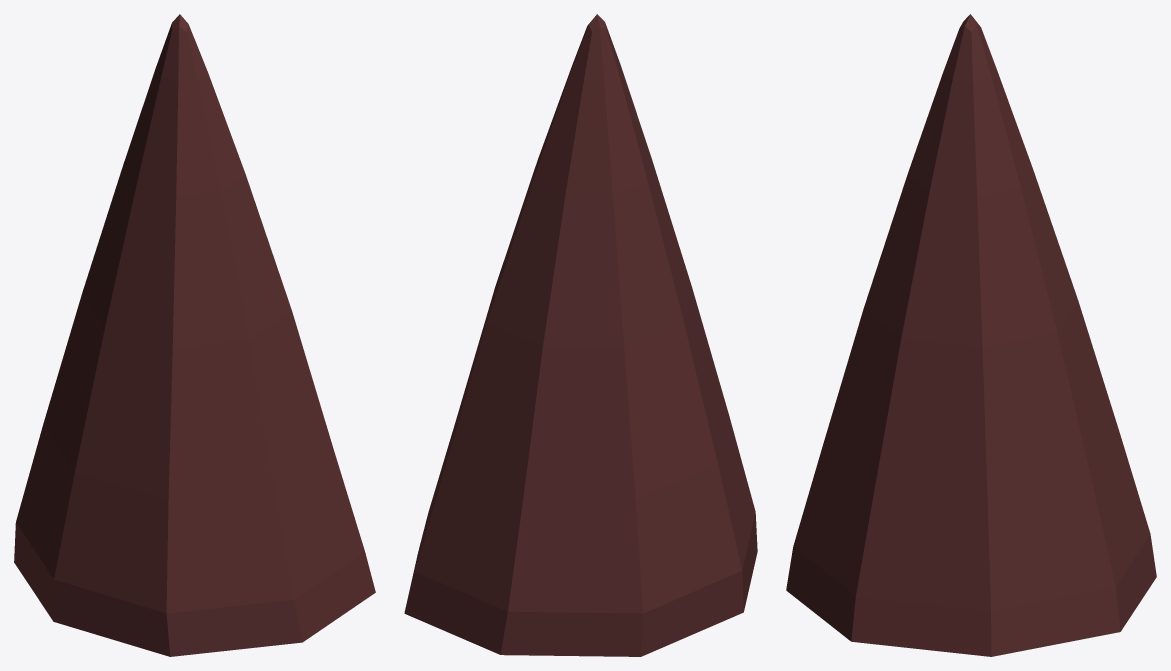
The model's file is spike.fbx.
3 views of the same model, side by side, from view 1: azimuth 30°, elevation 25°; view 2: azimuth 150°, elevation 25°; view 3: azimuth 270°, elevation 25° (orthographic).
Parts seen in each view (by area): view 1: Spike.001; view 2: Spike.001; view 3: Spike.001.
Part boxes in pixels (bbox=[...]): Spike.001: bbox=[14, 14, 375, 656]; Spike.001: bbox=[404, 14, 757, 656]; Spike.001: bbox=[786, 14, 1156, 656].
Size of the model in its own units: 6.93 by 12.53 by 7.41.
